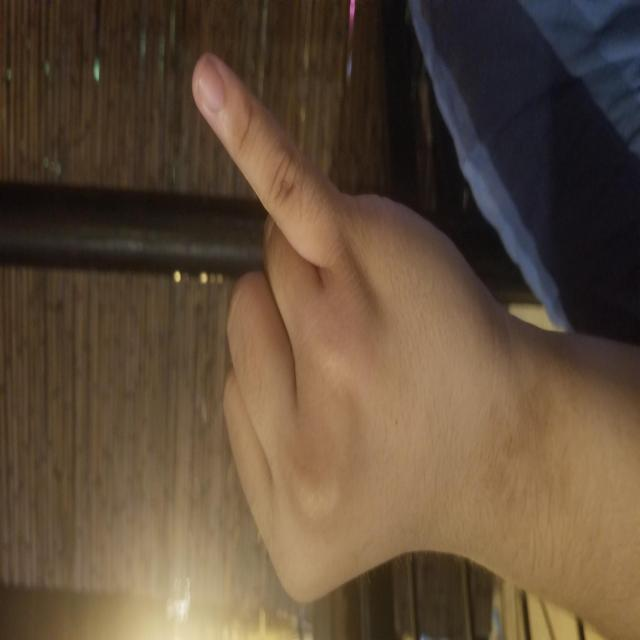J: (176, 22, 529, 620)
